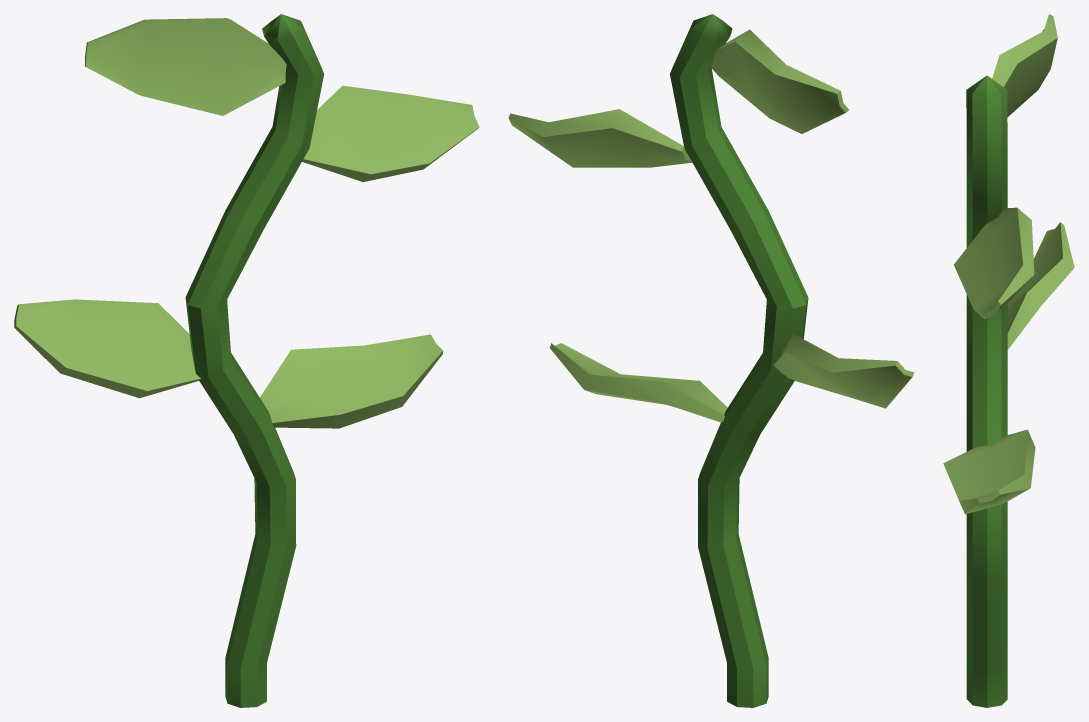
Rendered from Sunflower_Stage2.fbx.
The picture shows the model from 3 angles, left to right: view 1: azimuth 30°, elevation 25°; view 2: azimuth 150°, elevation 25°; view 3: azimuth 270°, elevation 25°; orthographic projection. The views are drawn at different scales.
Visible parts, largest first — view 1: pCylinder2, Leaf13, Leaf10, Leaf12, Leaf11; view 2: pCylinder2, Leaf13, Leaf12, Leaf10, Leaf11; view 3: pCylinder2, Leaf12, Leaf11, Leaf10, Leaf13.
Boxes of the visible parts, x1,y1,x2,y2 form: pCylinder2: (185,14,323,707); Leaf13: (85,18,286,115); Leaf10: (14,299,201,398); Leaf12: (302,85,479,181); Leaf11: (260,334,443,428); pCylinder2: (670,14,808,707); Leaf13: (711,29,848,133); Leaf12: (508,109,692,167); Leaf10: (773,334,914,408); Leaf11: (550,343,727,422); pCylinder2: (966,75,1007,707); Leaf12: (954,207,1034,318); Leaf11: (943,429,1035,514); Leaf10: (1007,222,1074,349); Leaf13: (992,14,1057,117).
Size of the model in its own units: 2.38 by 3.58 by 0.6655.
